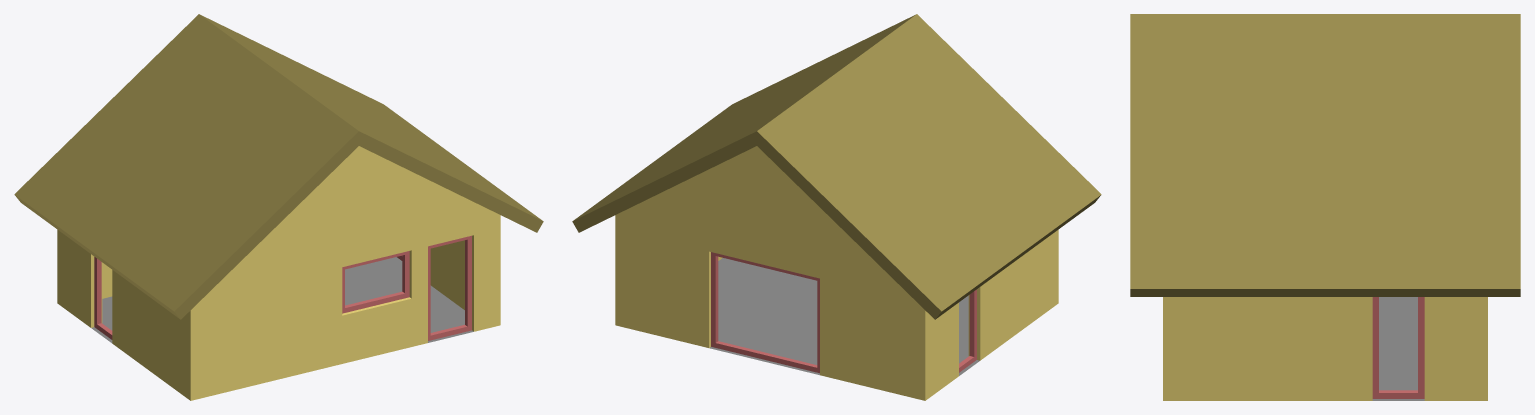
Rendered from result.glb.
3 views of the same model, side by side, from view 1: azimuth 30°, elevation 25°; view 2: azimuth 150°, elevation 25°; view 3: azimuth 270°, elevation 25° (orthographic). The views are drawn at different scales.
Visible parts, largest first — view 1: 4d834c98-83cc-4881-8deb-767874e14f8d__undefined (×2), 52583cb8-803d-4113-9efd-0f64a6bbb8a5__undefined, 4c15e415-5ccb-4e54-9bb8-875f38cd8eb4__Plane_6, 77fd3d97-315b-49bd-a71d-8b90a8b08dcd__Box, 184cfd39-20ee-4bbe-86ab-4e3ad521e0f6__Box_3, 883fabb5-fb2e-4776-b132-9fa099663ba5__Box_12; view 2: 4d834c98-83cc-4881-8deb-767874e14f8d__undefined (×2), 52583cb8-803d-4113-9efd-0f64a6bbb8a5__undefined, 4c15e415-5ccb-4e54-9bb8-875f38cd8eb4__Plane_6, 1a46772d-ac2b-4438-8284-fce4a446e762__Box_9, 883fabb5-fb2e-4776-b132-9fa099663ba5__Box_12; view 3: 4d834c98-83cc-4881-8deb-767874e14f8d__undefined, 52583cb8-803d-4113-9efd-0f64a6bbb8a5__undefined, 4c15e415-5ccb-4e54-9bb8-875f38cd8eb4__Plane_6, 260ebfe9-6e48-495c-a764-3c41cadb7565__Box_15.
Boxes of the visible parts, x1,y1,x2,y2 form: 4d834c98-83cc-4881-8deb-767874e14f8d__undefined (×2): (14, 14, 543, 319); 52583cb8-803d-4113-9efd-0f64a6bbb8a5__undefined: (57, 146, 500, 400); 4c15e415-5ccb-4e54-9bb8-875f38cd8eb4__Plane_6: (91, 257, 473, 343); 77fd3d97-315b-49bd-a71d-8b90a8b08dcd__Box: (428, 235, 471, 340); 184cfd39-20ee-4bbe-86ab-4e3ad521e0f6__Box_3: (342, 251, 409, 313); 883fabb5-fb2e-4776-b132-9fa099663ba5__Box_12: (94, 257, 112, 339); 4d834c98-83cc-4881-8deb-767874e14f8d__undefined (×2): (572, 14, 1101, 319); 52583cb8-803d-4113-9efd-0f64a6bbb8a5__undefined: (615, 146, 1058, 400); 4c15e415-5ccb-4e54-9bb8-875f38cd8eb4__Plane_6: (709, 258, 979, 375); 1a46772d-ac2b-4438-8284-fce4a446e762__Box_9: (711, 252, 819, 373); 883fabb5-fb2e-4776-b132-9fa099663ba5__Box_12: (959, 289, 976, 372); 4d834c98-83cc-4881-8deb-767874e14f8d__undefined: (1130, 14, 1520, 296); 52583cb8-803d-4113-9efd-0f64a6bbb8a5__undefined: (1163, 297, 1487, 400); 4c15e415-5ccb-4e54-9bb8-875f38cd8eb4__Plane_6: (1372, 297, 1424, 400); 260ebfe9-6e48-495c-a764-3c41cadb7565__Box_15: (1372, 297, 1424, 398).
Bounding box in the file's own units: 800 × 500 × 600.
